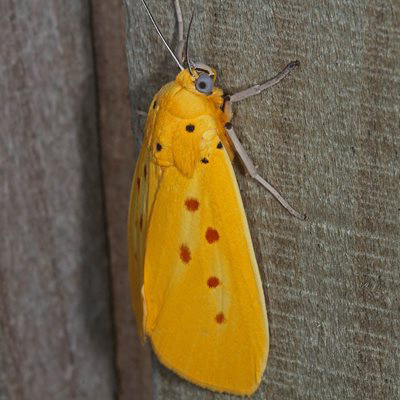Agape chloropyga: (126, 1, 306, 397)
moth: (128, 2, 308, 399)
